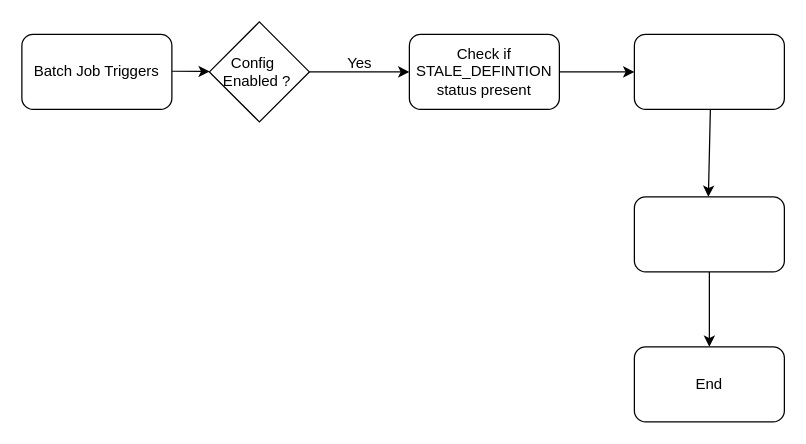
Some shapes in this 806 by 444 pixel diagram are drawn without their labels. Each missing label, with the box of its shape:
Delete the process from the table that have ended.: (633, 196, 784, 272)
Fetch the eligible definitions to be updated and set DMN as null: (633, 33, 784, 109)
